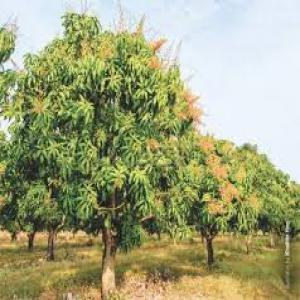Tree: (15, 10, 202, 294), (177, 125, 247, 274)
